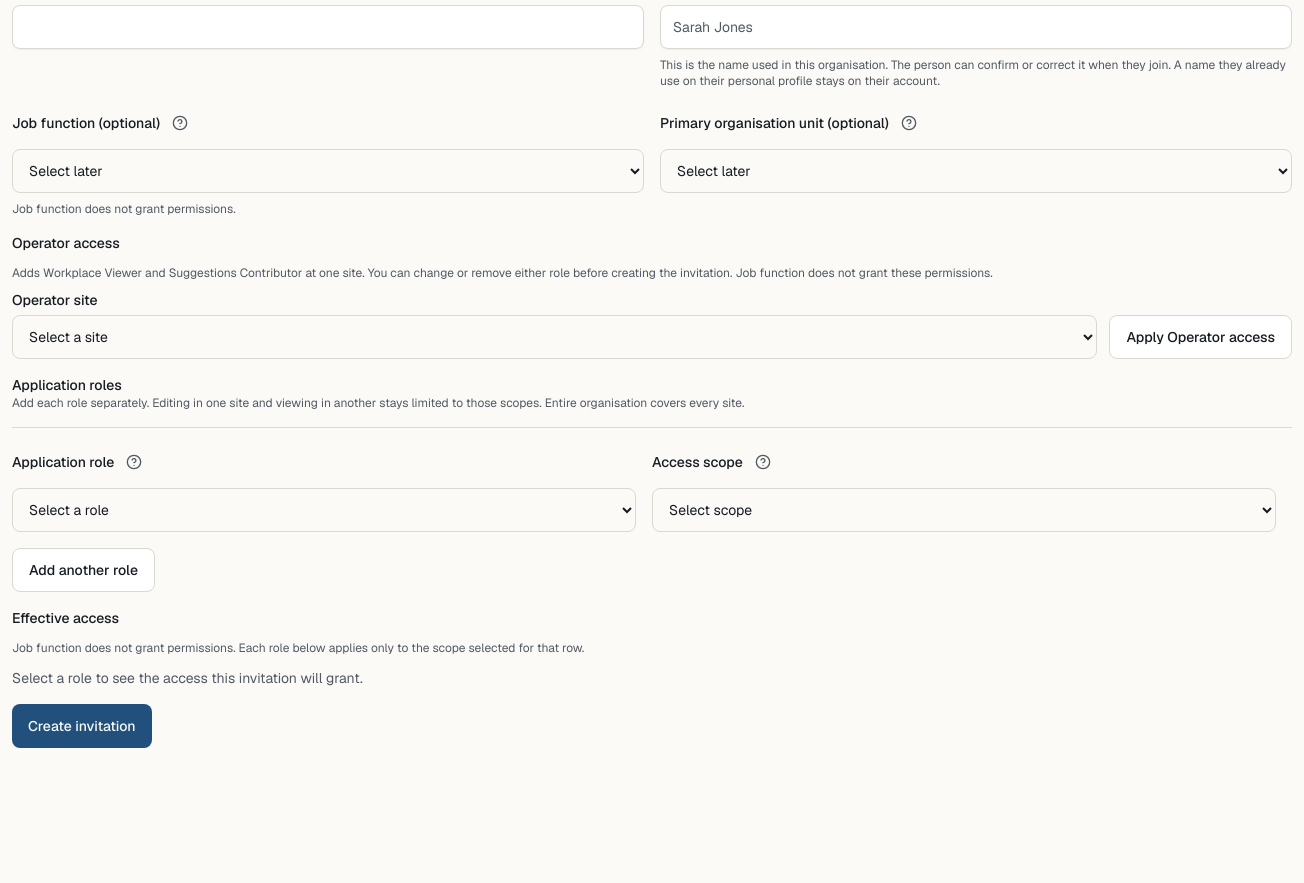
Test: InviteColleagueForm invitation link UX › applies Operator access as two editable site grants
expect the element with test id "operator-access-preset" is shown: met, box [12, 233, 1292, 359]
Select "Specific site: North Site" in the dropdown labelled "Operator site" at (555,337), box [12, 315, 1097, 359]
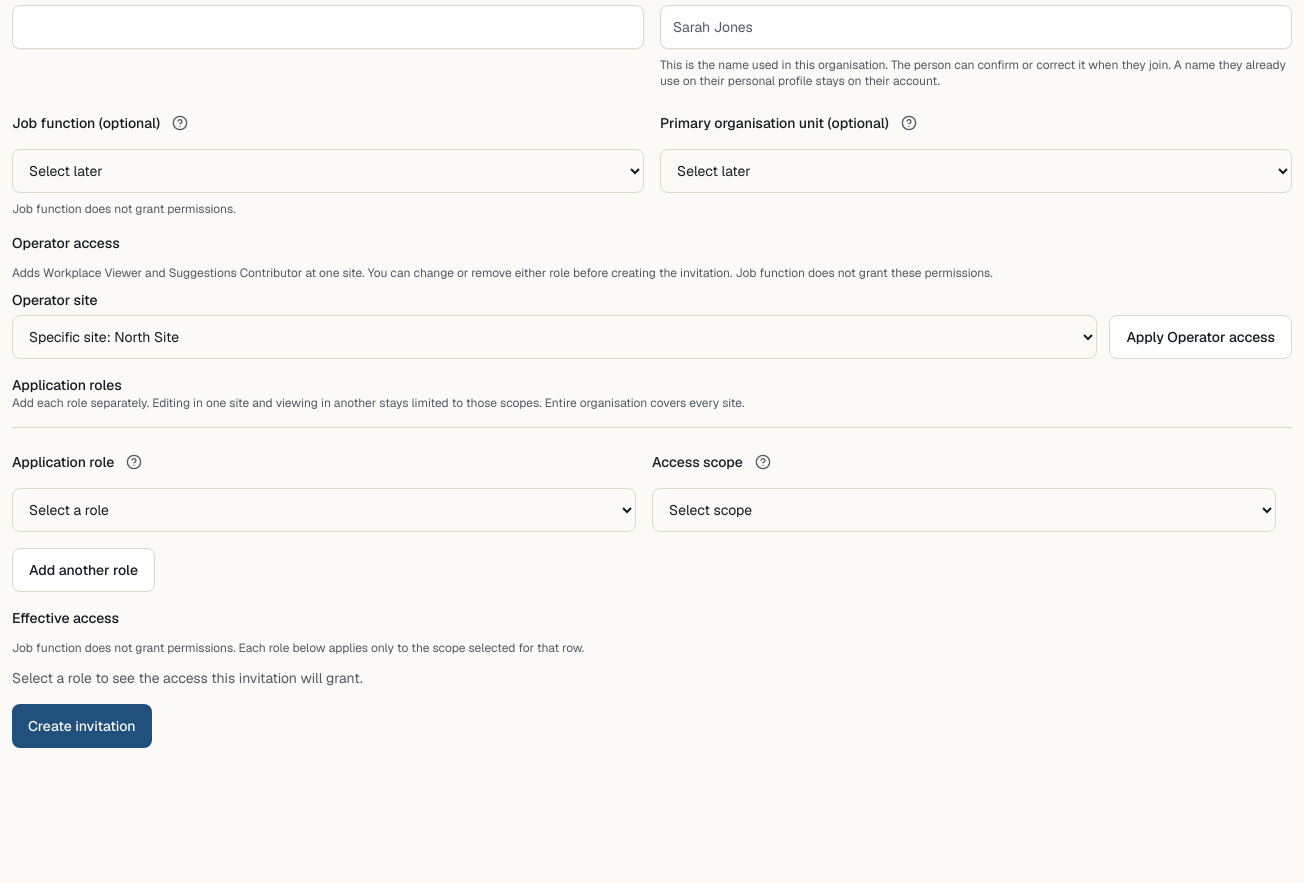
Click the button with test id "apply-operator-access" at (1201,337), box [1109, 315, 1292, 359]
(page scrolled)
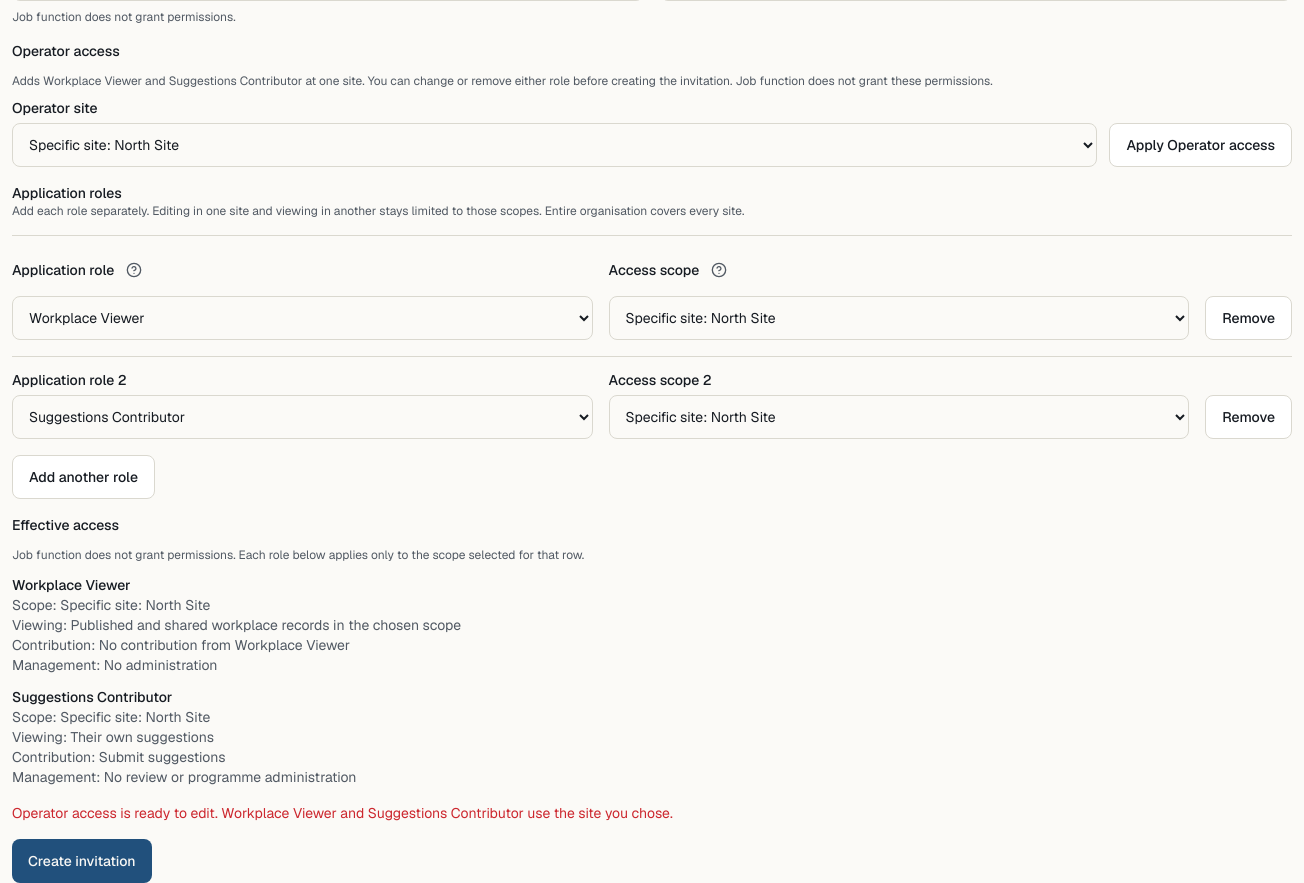
expect the dropdown with id "invite-role" shows "Workplace Viewer": met, box [12, 296, 593, 340]
expect the dropdown with id "invite-role-1" shows "Suggestions Contributor": met, box [12, 395, 593, 439]
expect the text "Viewing: Published and shared workplace records in the chosen scope" is shown: met, box [12, 616, 461, 634]
